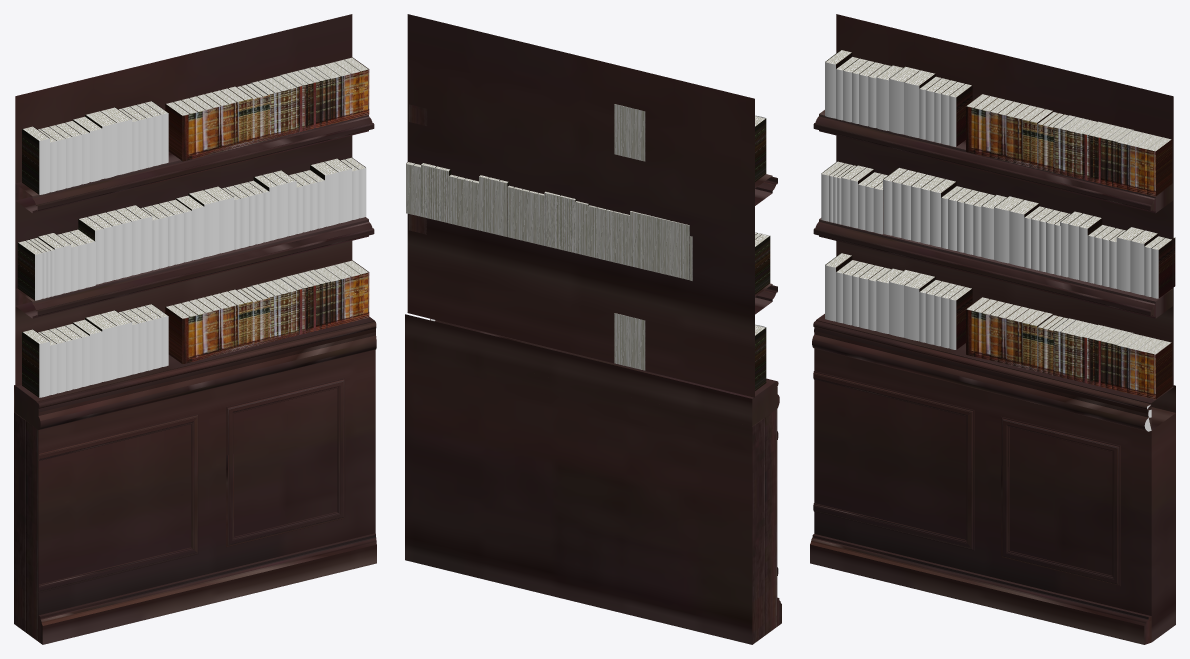
File: Biblioteca_Estante_Direita_GameJamFBX.fbx
3 renders of one model, left to right at view 1: azimuth 30°, elevation 25°; view 2: azimuth 150°, elevation 25°; view 3: azimuth 330°, elevation 25°, orthographic. The views are drawn at different scales.
Visible parts, largest first — view 1: Group6, Group3, Group20, Group14, Group11, Group10, Group17, Group7, Group5, Group19, Group13, Group4 (+5 smaller); view 2: Group3, Group6, Group2, Group11, corpo23, corpo21, corpo49, Group4, corpo37, corpo36, Group5, corpo32 (+10 smaller); view 3: Group6, Group3, Group20, Group14, Group11, Group10, Group17, Group7, Group5, Group19, Group13, Group4 (+5 smaller).
Part boxes in pixels (box(x1,y1,x2,y2)): Group6: box(14, 349, 375, 641); Group3: box(15, 14, 352, 386); Group20: box(165, 57, 369, 161); Group14: box(165, 260, 369, 363); Group11: box(14, 317, 376, 429); Group10: box(39, 533, 376, 644); Group17: box(95, 191, 270, 284); Group7: box(38, 378, 345, 592); Group5: box(15, 217, 374, 318); Group19: box(39, 113, 168, 194); Group13: box(39, 316, 168, 397); Group4: box(15, 114, 374, 213); Group3: box(407, 14, 754, 397); Group6: box(405, 342, 777, 644); Group2: box(405, 314, 752, 426); Group11: box(425, 317, 779, 426); corpo23: box(559, 195, 576, 252); corpo21: box(544, 191, 560, 249); corpo49: box(755, 234, 770, 294); Group4: box(408, 104, 777, 205); corpo37: box(435, 166, 451, 223); corpo36: box(421, 163, 436, 219); Group5: box(408, 214, 777, 314); corpo32: box(575, 201, 589, 255); Group6: box(814, 348, 1175, 641); Group3: box(836, 14, 1173, 386); Group20: box(966, 94, 1172, 196); Group14: box(966, 297, 1172, 399); Group11: box(812, 314, 1173, 431); Group10: box(810, 534, 1151, 644); Group17: box(883, 179, 1060, 275); Group7: box(813, 371, 1120, 586); Group5: box(813, 218, 1172, 318); Group19: box(825, 62, 956, 146); Group13: box(825, 265, 956, 349); Group4: box(813, 110, 1172, 213).
Bounding box in the file's own units: 2004 × 3000 × 301.
